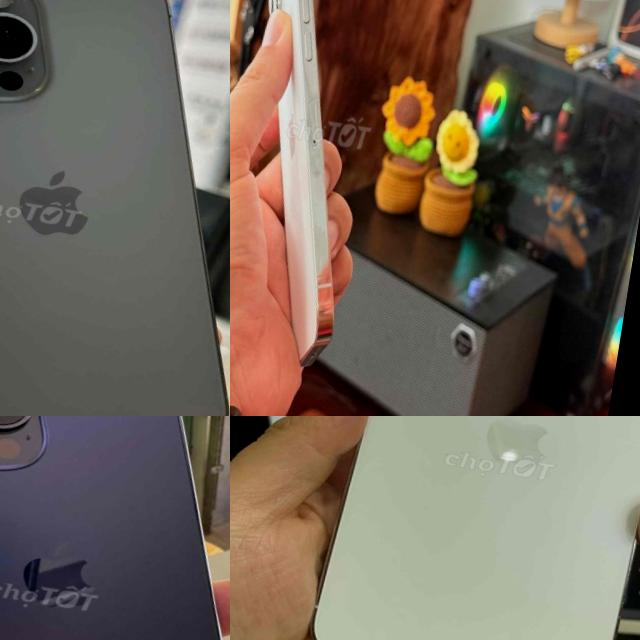gen_12_13: (300, 416, 640, 640), (230, 0, 413, 377)
gen_14: (0, 416, 230, 640)
gen_15: (0, 0, 230, 416)
